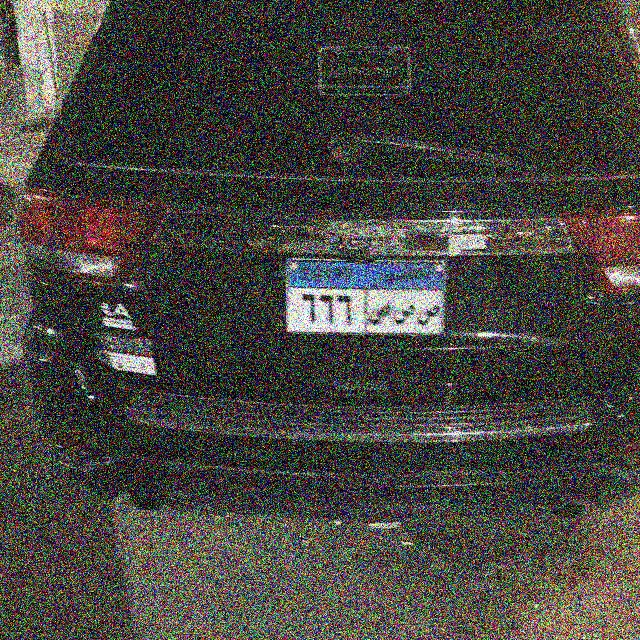License Plate: (281, 252, 451, 341)
